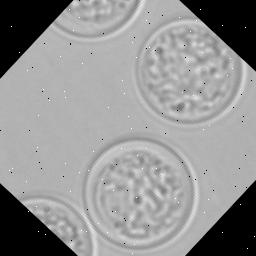picoshell: (84, 133, 200, 254), (133, 17, 247, 127), (19, 192, 98, 256), (52, 0, 145, 41)
